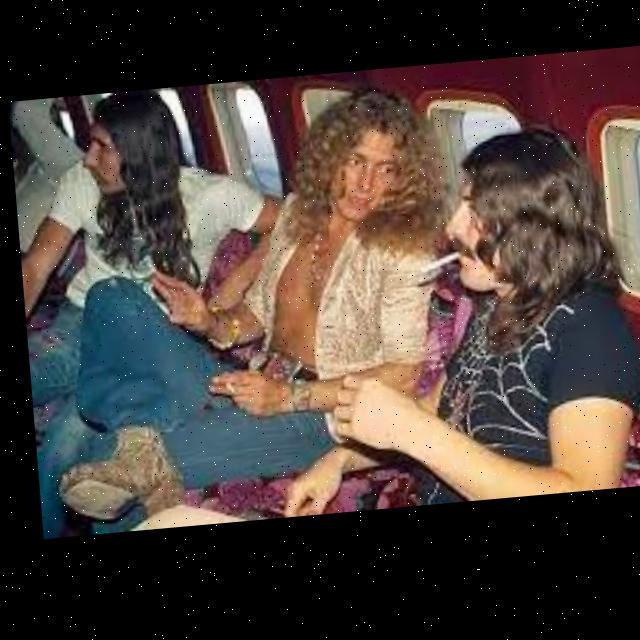cigarette: (415, 259, 457, 279)
